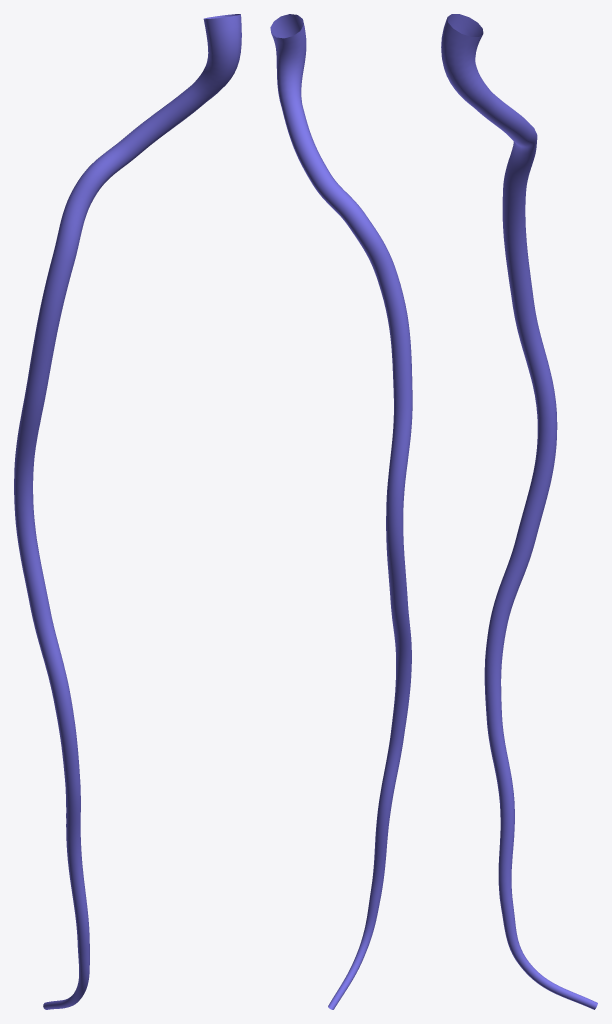
Rendered from Deep_femoral_vein.r_BezierCurve.315.glb.
The picture shows the model from 3 angles, left to right: view 1: azimuth 30°, elevation 25°; view 2: azimuth 150°, elevation 25°; view 3: azimuth 270°, elevation 25°; orthographic projection. The views are drawn at different scales.
Parts seen in each view (by area): view 1: Deep_femoral_vein.r_BezierCurve.315; view 2: Deep_femoral_vein.r_BezierCurve.315; view 3: Deep_femoral_vein.r_BezierCurve.315.
Boxes of the visible parts, x1=… form: Deep_femoral_vein.r_BezierCurve.315: x1=14, y1=14, x2=241, y2=1009; Deep_femoral_vein.r_BezierCurve.315: x1=270, y1=14, x2=412, y2=1009; Deep_femoral_vein.r_BezierCurve.315: x1=441, y1=14, x2=597, y2=1009.
Size of the model in its own units: 0.0551 by 0.2907 by 0.0394.
